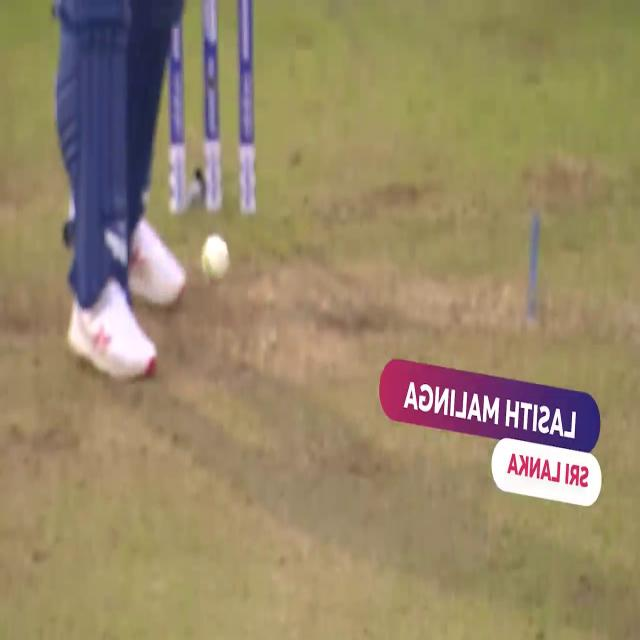ball: (199, 232, 233, 285)
